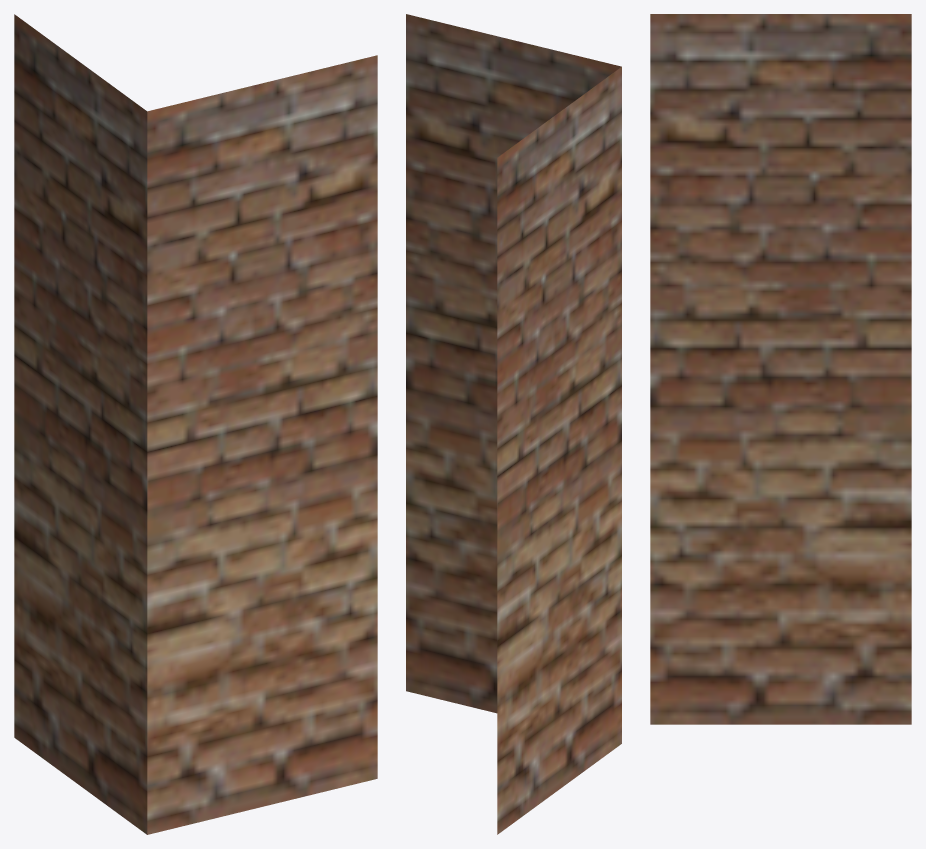
Rendered from brick_wall_corner.fbx.
3 renders of one model, left to right at view 1: azimuth 30°, elevation 25°; view 2: azimuth 150°, elevation 25°; view 3: azimuth 270°, elevation 25°, orthographic. The views are drawn at different scales.
Parts seen in each view (by area): view 1: brick_wall_corner; view 2: brick_wall_corner; view 3: brick_wall_corner.
Part boxes in pixels (bbox=[...]): brick_wall_corner: bbox=[14, 14, 377, 834]; brick_wall_corner: bbox=[406, 14, 621, 834]; brick_wall_corner: bbox=[650, 14, 911, 724].
Bounding box in the file's own units: 100 × 300 × 100.
Materials: 1 (1 with a texture image).
